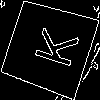K: (24, 23, 80, 70)
